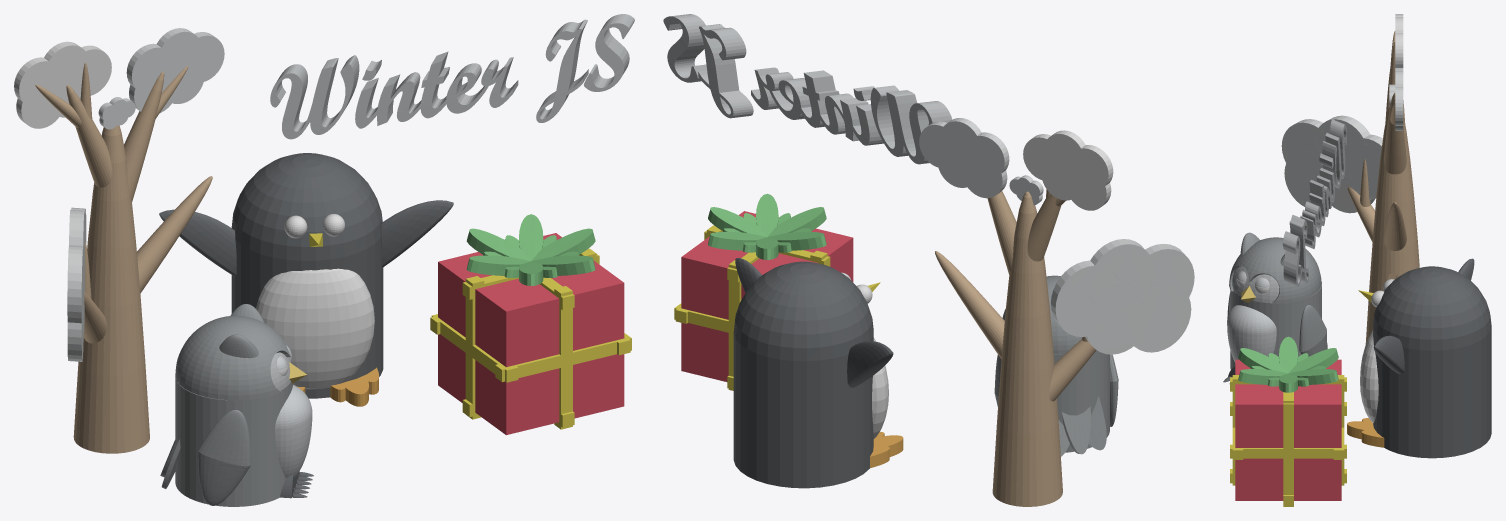
The model's file is main.glb.
3 views of the same model, side by side, from view 1: azimuth 30°, elevation 25°; view 2: azimuth 150°, elevation 25°; view 3: azimuth 270°, elevation 25° (orthographic). The views are drawn at different scales.
Visible parts, largest first — view 1: Mesh_Mesh_head_geo.001_lambert2SG.001; view 2: Mesh_Mesh_head_geo.001_lambert2SG.001; view 3: Mesh_Mesh_head_geo.001_lambert2SG.001.
Part boxes in pixels (x1=…): Mesh_Mesh_head_geo.001_lambert2SG.001: x1=14, y1=14, x2=634, y2=506; Mesh_Mesh_head_geo.001_lambert2SG.001: x1=663, y1=14, x2=1194, y2=506; Mesh_Mesh_head_geo.001_lambert2SG.001: x1=1223, y1=14, x2=1491, y2=506.
Size of the model in its own units: 13.2 by 8.88 by 6.87.
